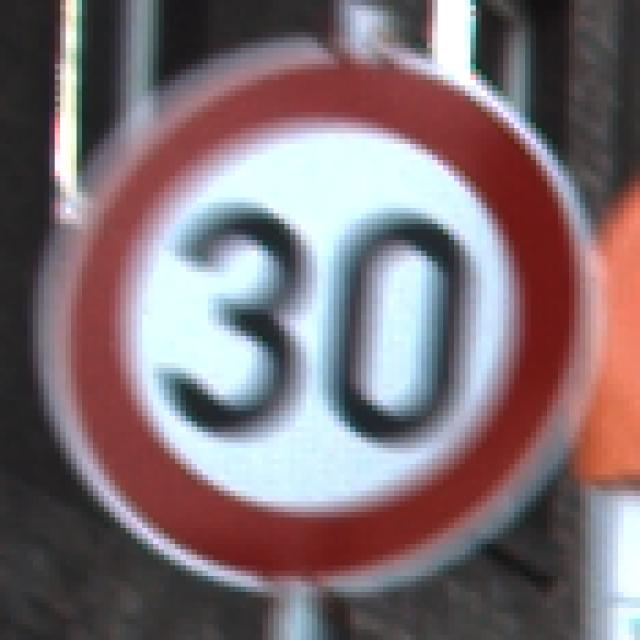Speed Limit -30-: (52, 51, 583, 584)
